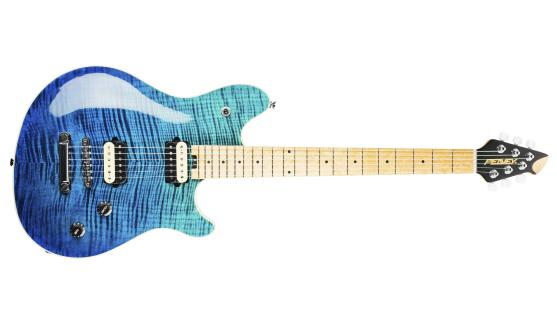ElectricGuitar: (22, 64, 549, 261)
